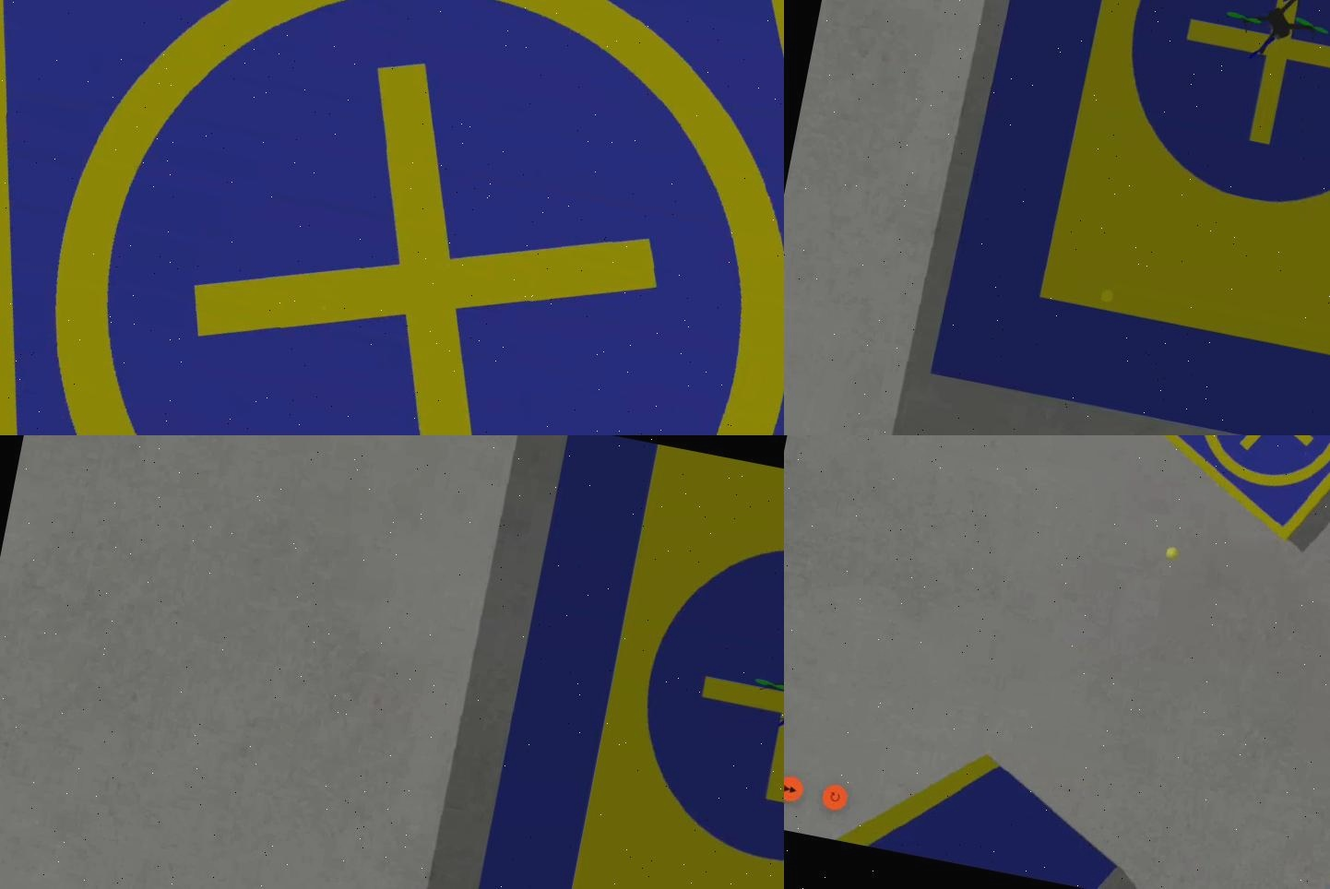large_base: (927, 1, 1330, 435), (447, 435, 784, 889)
small_base: (1, 1, 784, 435), (1129, 435, 1330, 560)
